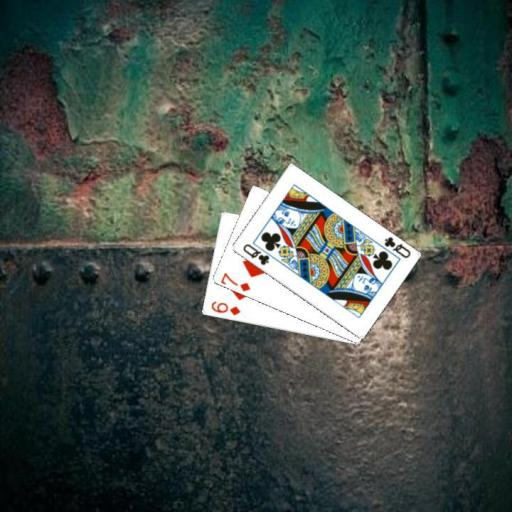6D: (208, 298, 242, 317)
7D: (218, 269, 252, 293)
QC: (380, 233, 412, 260), (240, 240, 271, 267)
